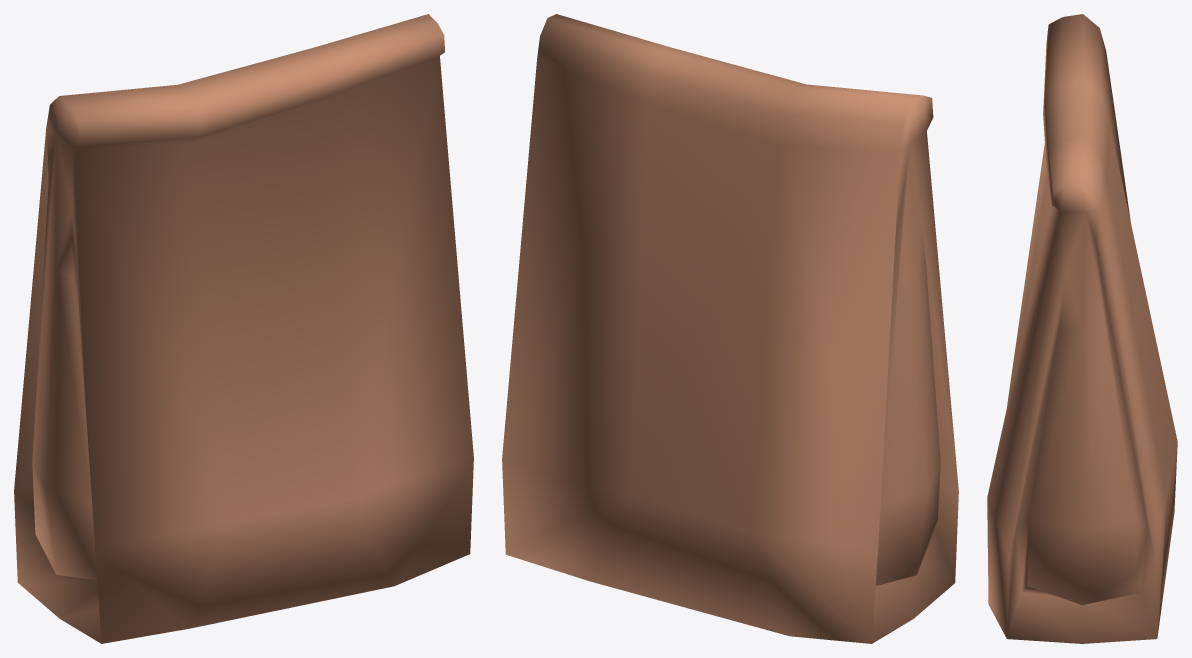
File: SM_Seedbag.fbx
3 views of the same model, side by side, from view 1: azimuth 30°, elevation 25°; view 2: azimuth 150°, elevation 25°; view 3: azimuth 270°, elevation 25° (orthographic). The views are drawn at different scales.
Parts seen in each view (by area): view 1: SM_Seedbag; view 2: SM_Seedbag; view 3: SM_Seedbag.
Part boxes in pixels (bbox=[...]): SM_Seedbag: bbox=[14, 14, 473, 643]; SM_Seedbag: bbox=[502, 14, 958, 643]; SM_Seedbag: bbox=[987, 14, 1177, 643].
Size of the model in its own units: 14.95 by 18.98 by 6.95.
